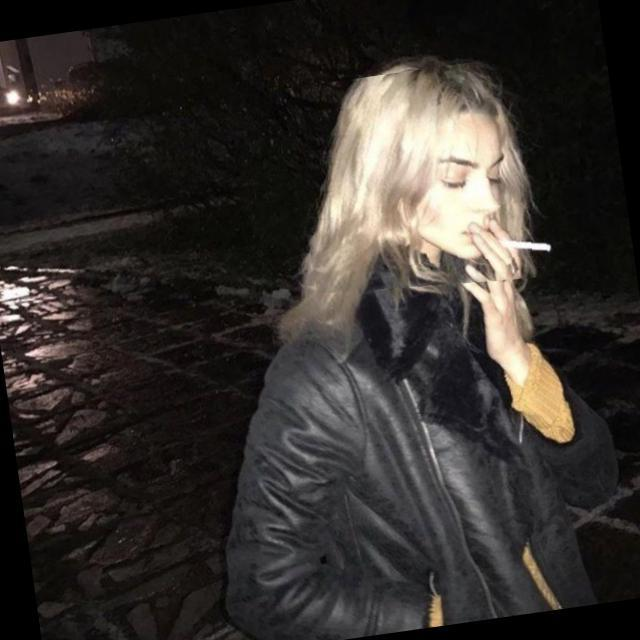cigarette: (468, 229, 562, 273)
